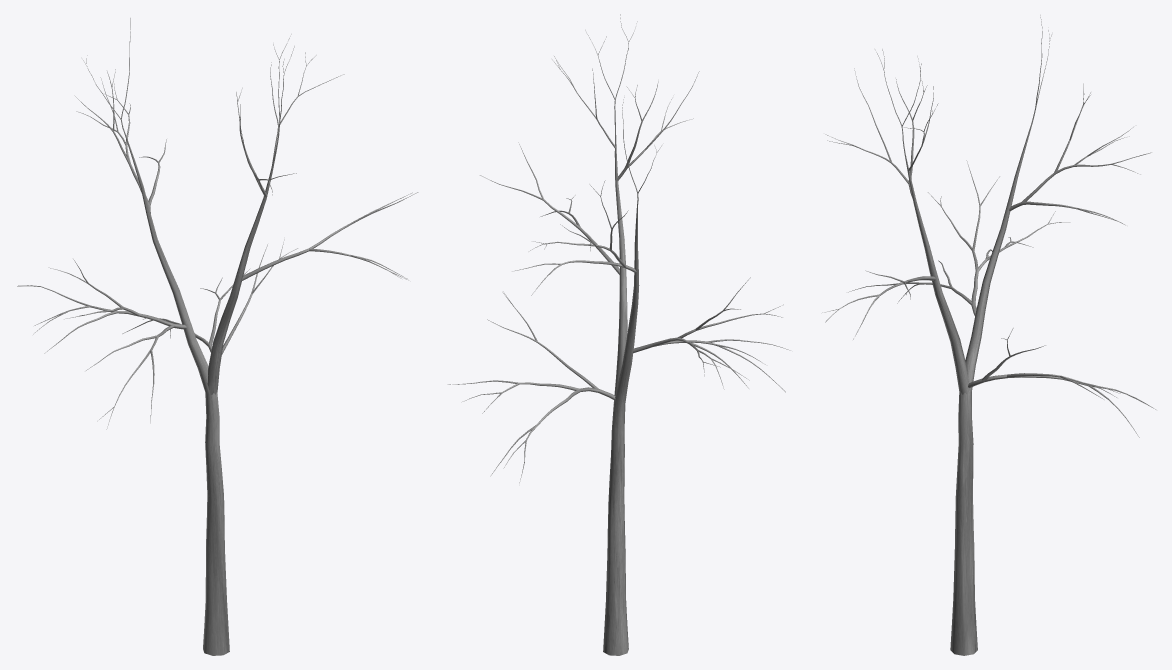
The model's file is tree1.glb.
3 renders of one model, left to right at view 1: azimuth 30°, elevation 25°; view 2: azimuth 150°, elevation 25°; view 3: azimuth 270°, elevation 25°, orthographic. The views are drawn at different scales.
Visible parts, largest first — view 1: GN Instance; view 2: GN Instance; view 3: GN Instance.
Boxes of the visible parts, x1,y1,x2,y2 form: GN Instance: [17, 18, 418, 655]; GN Instance: [447, 14, 790, 655]; GN Instance: [822, 15, 1155, 655].
Size of the model in its own units: 4.8 by 8.61 by 4.24.
1 material, 1 textured.
